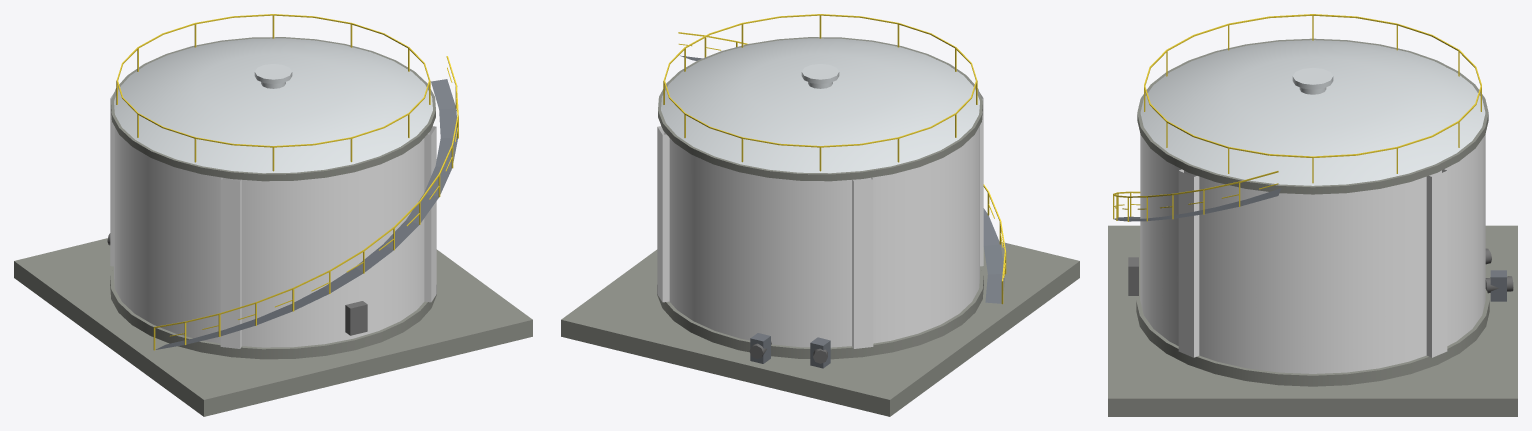
Rendered from site_pctank_close.fbx.
The picture shows the model from 3 angles, left to right: view 1: azimuth 30°, elevation 25°; view 2: azimuth 150°, elevation 25°; view 3: azimuth 270°, elevation 25°; orthographic projection. The views are drawn at different scales.
Parts seen in each view (by area): view 1: a1063/0/site_pctank_close; view 2: a1063/0/site_pctank_close; view 3: a1063/0/site_pctank_close.
Boxes of the visible parts, x1,y1,x2,y2 form: a1063/0/site_pctank_close: (14,14,532,416); a1063/0/site_pctank_close: (561,14,1079,416); a1063/0/site_pctank_close: (1108,14,1517,416).
Size of the model in its own units: 15.2 by 10.4 by 15.2.
